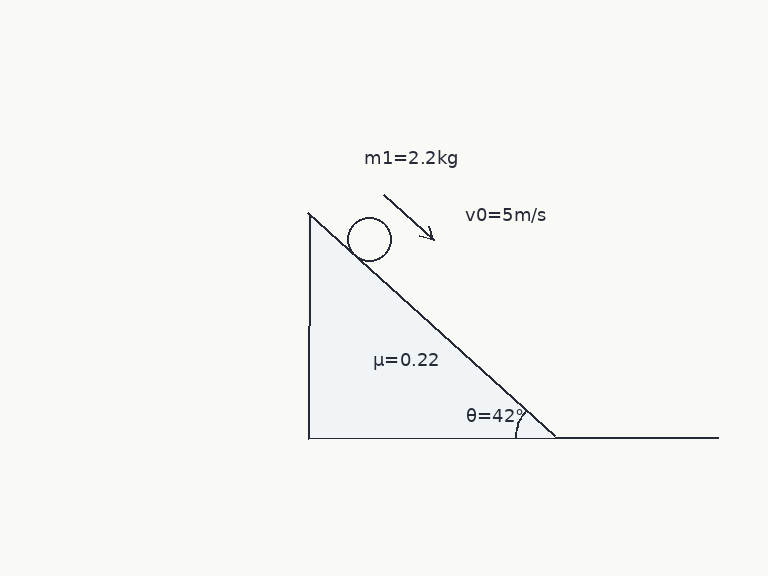ball: (345, 215, 393, 263)
ramp: (306, 212, 558, 439)
